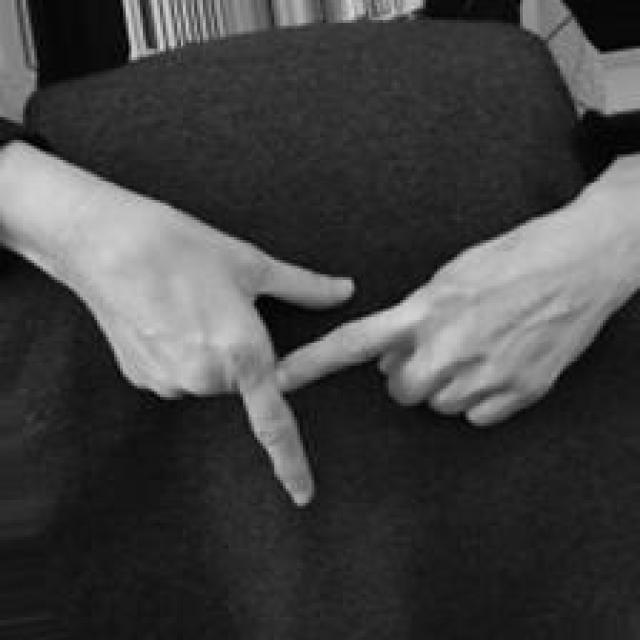F: (107, 183, 640, 510)
